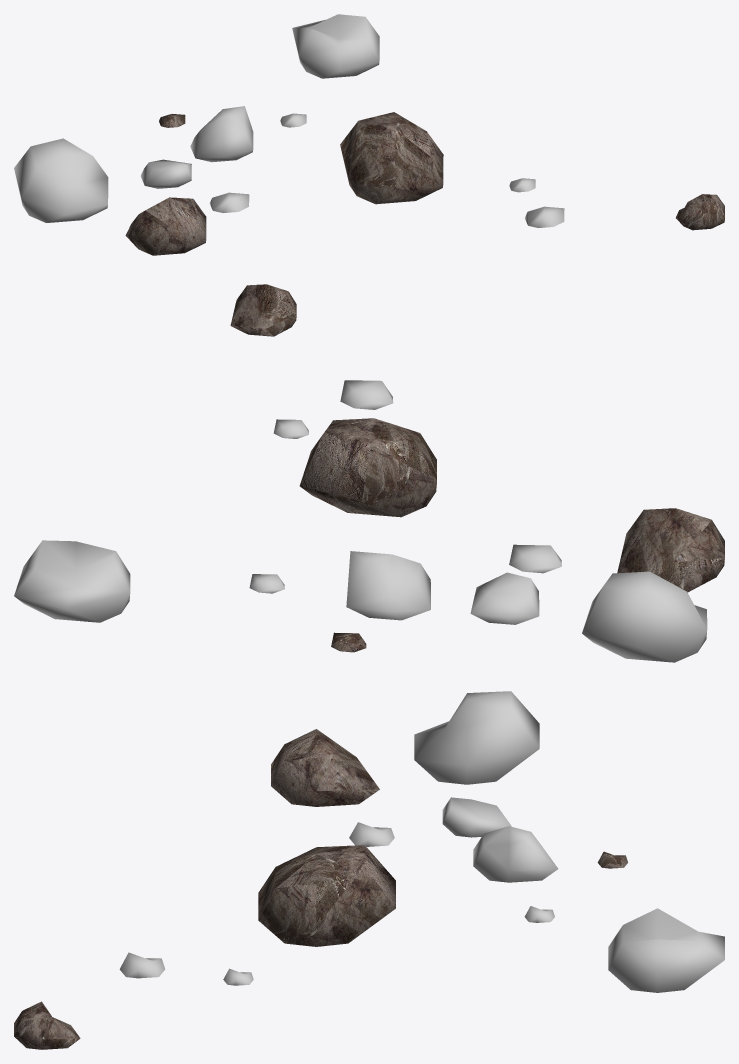
File: rocks_scattered.fbx
The picture shows the model from 3 angles, top to bottom: view 1: azimuth 30°, elevation 25°; view 2: azimuth 150°, elevation 25°; view 3: azimuth 270°, elevation 25°; orthographic projection. The views are drawn at different scales.
Visible parts, largest first — view 1: mesh_1, mesh_0; view 2: mesh_1, mesh_0; view 3: mesh_1, mesh_0.
Boxes of the visible parts, x1=… form: mesh_1: x1=14, y1=14, x2=564, y2=227; mesh_0: x1=125, y1=112, x2=724, y2=255; mesh_1: x1=14, y1=380, x2=707, y2=662; mesh_0: x1=230, y1=284, x2=724, y2=652; mesh_1: x1=119, y1=691, x2=724, y2=992; mesh_0: x1=14, y1=729, x2=627, y2=1049.
Bounding box in the file's own units: 162 × 16.6 × 155.
